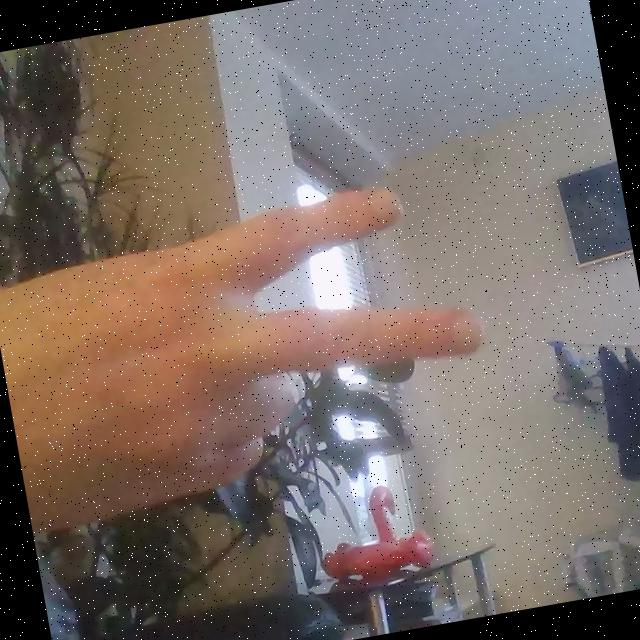scissors: (62, 165, 508, 518)
